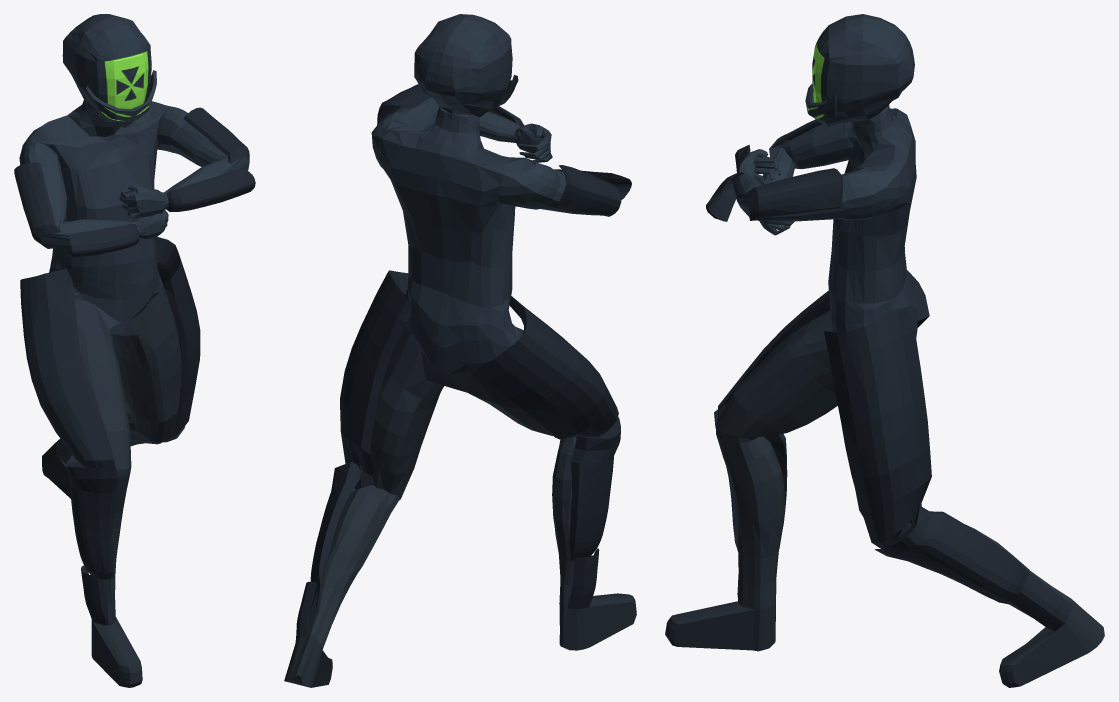
The model's file is Bastion_WL_000019.obj.
3 views of the same model, side by side, from view 1: azimuth 30°, elevation 25°; view 2: azimuth 150°, elevation 25°; view 3: azimuth 270°, elevation 25° (orthographic). The views are drawn at different scales.
Parts seen in each view (by area): view 1: Cube.002; view 2: Cube.002; view 3: Cube.002.
Part boxes in pixels (x1=…): Cube.002: x1=14, y1=14, x2=255, y2=687; Cube.002: x1=284, y1=14, x2=636, y2=687; Cube.002: x1=665, y1=14, x2=1104, y2=687.
Size of the model in its own units: 1.33 by 3.58 by 2.17.
